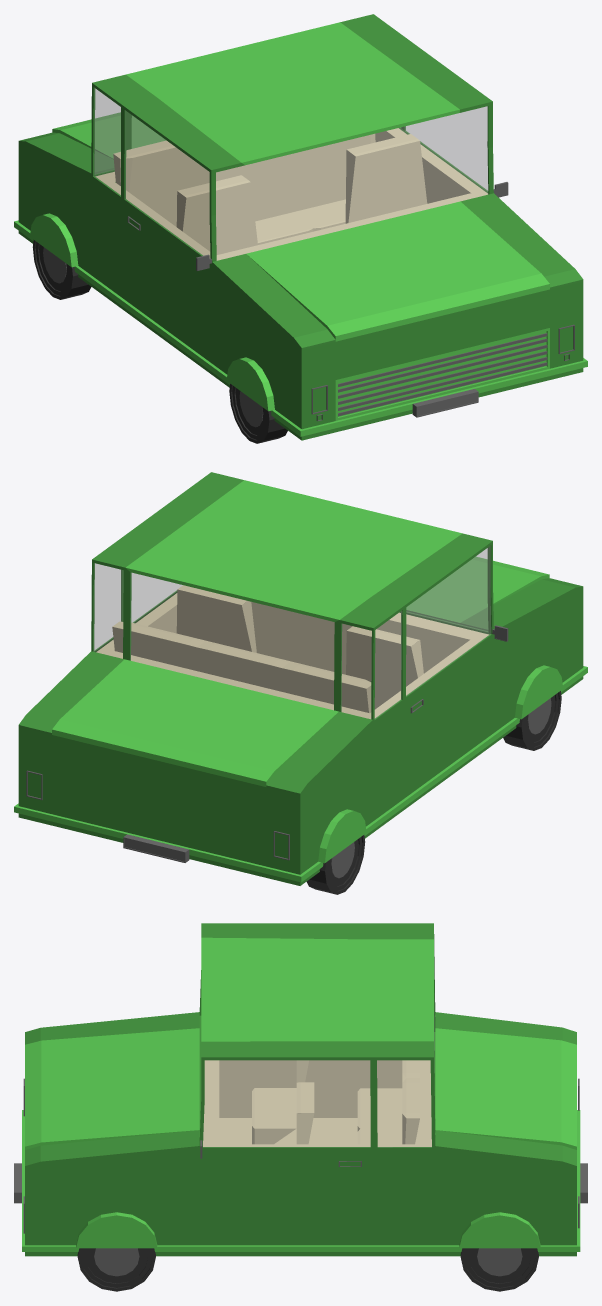
The model's file is Car_01.fbx.
3 renders of one model, top to bottom at view 1: azimuth 30°, elevation 25°; view 2: azimuth 150°, elevation 25°; view 3: azimuth 270°, elevation 25°, orthographic. The views are drawn at different scales.
Parts seen in each view (by area): view 1: Car_01; view 2: Car_01; view 3: Car_01.
Boxes of the visible parts, box(x1,y1,x2,y2) form: Car_01: box(14, 14, 587, 443); Car_01: box(14, 472, 587, 894); Car_01: box(14, 923, 587, 1291).
Bounding box in the file's own units: 147 × 108 × 242.
